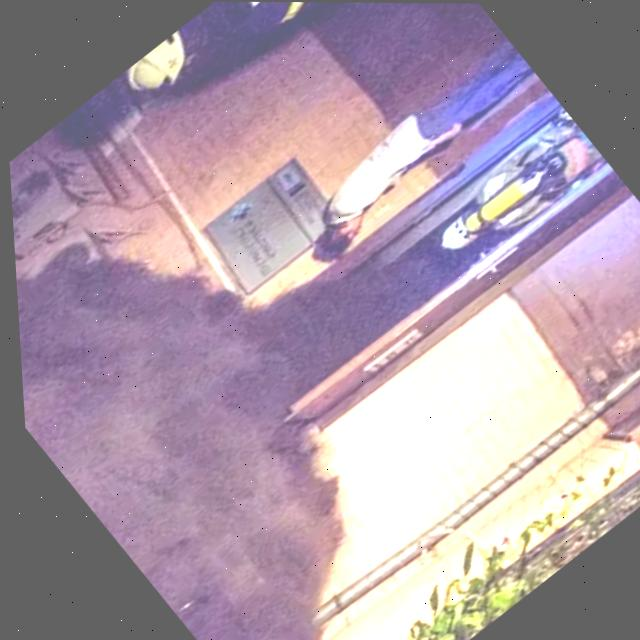Smoke: (7, 160, 429, 640)
